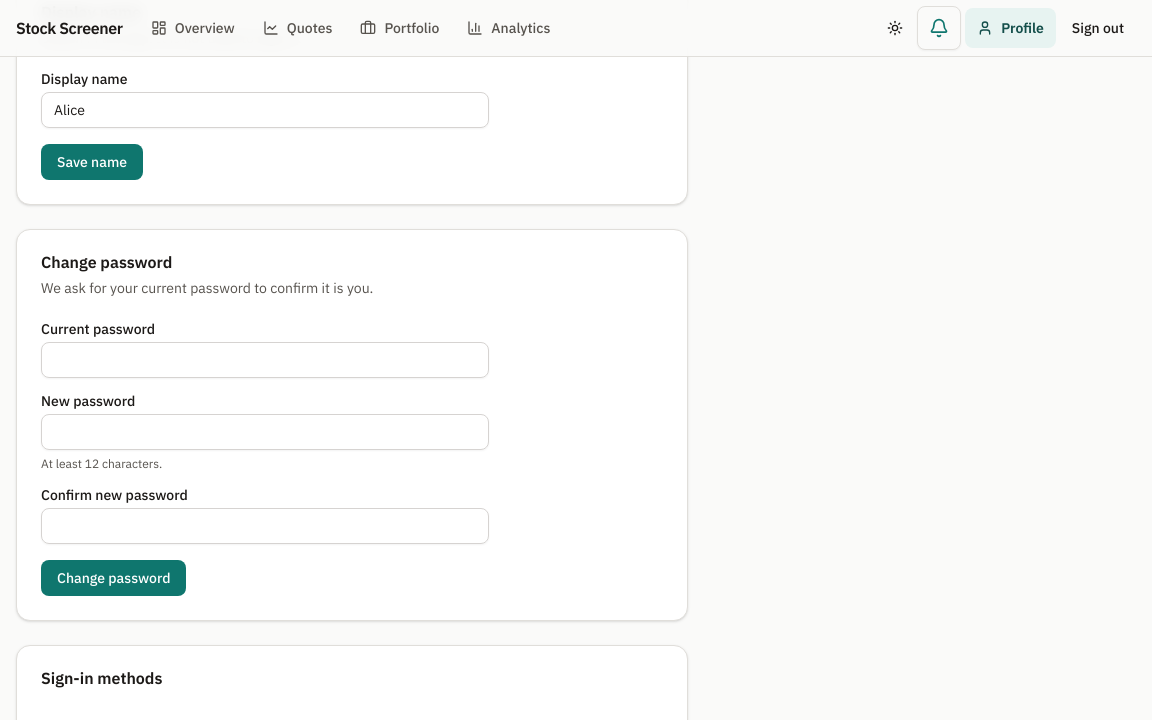
it: Security: password branch › applies the one 12 to 72 character rule, with the same texts as sign-in
The width and height of the screenshot is (1152, 720).
(page scrolled)
Expected: the password field labelled "New password" is shown, [41,414,489,450]
Type "Old-Passw0rd-1" into the password field labelled "Current password" at [265, 360], box [41,342,489,378]
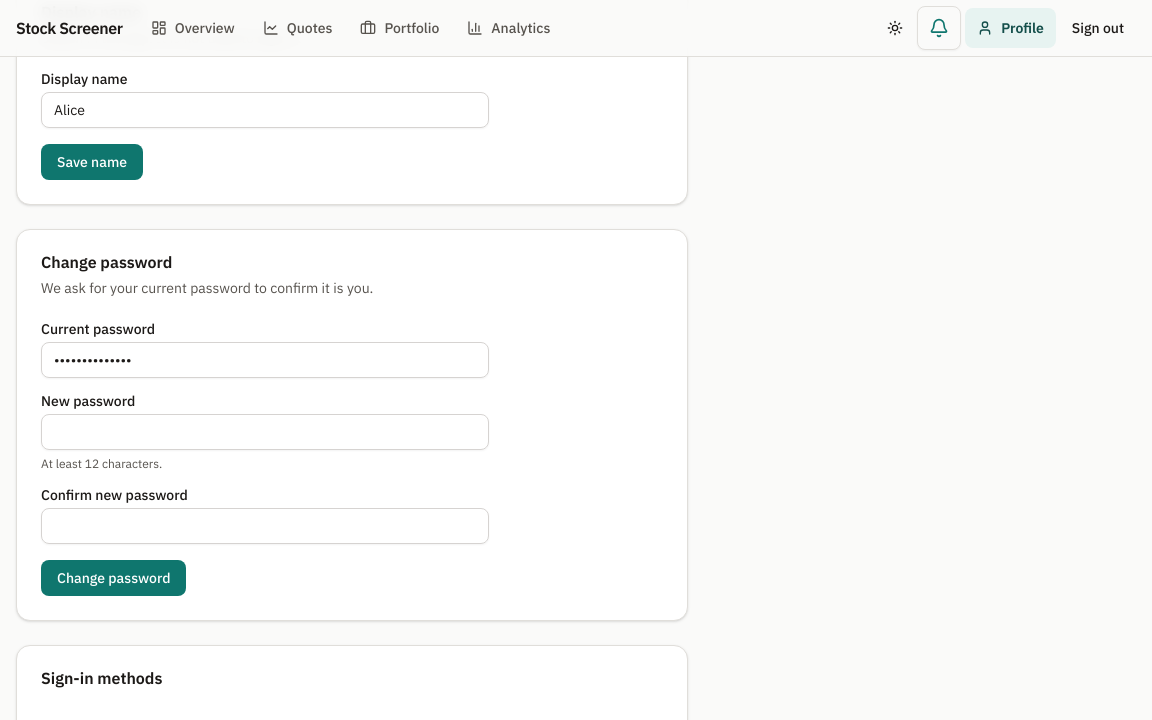
Type "short" into the password field labelled "New password" at [265, 432], box [41,414,489,450]
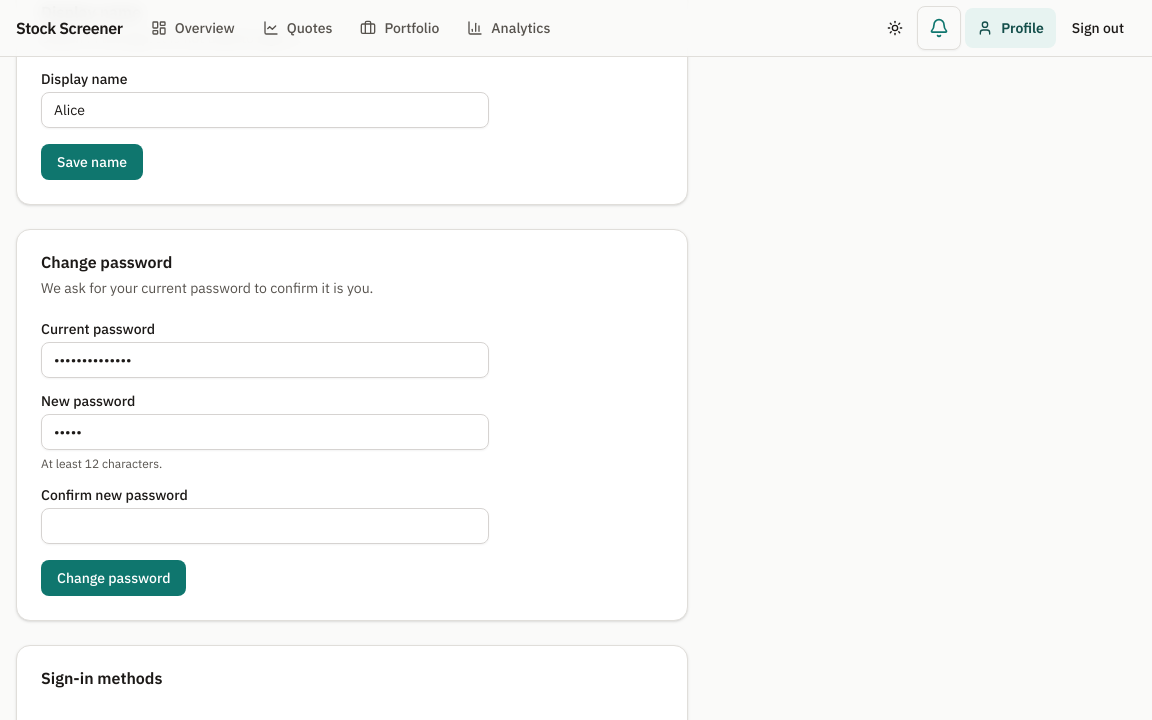
Type "short" into the password field labelled "Confirm new password" at [265, 526], box [41,508,489,544]
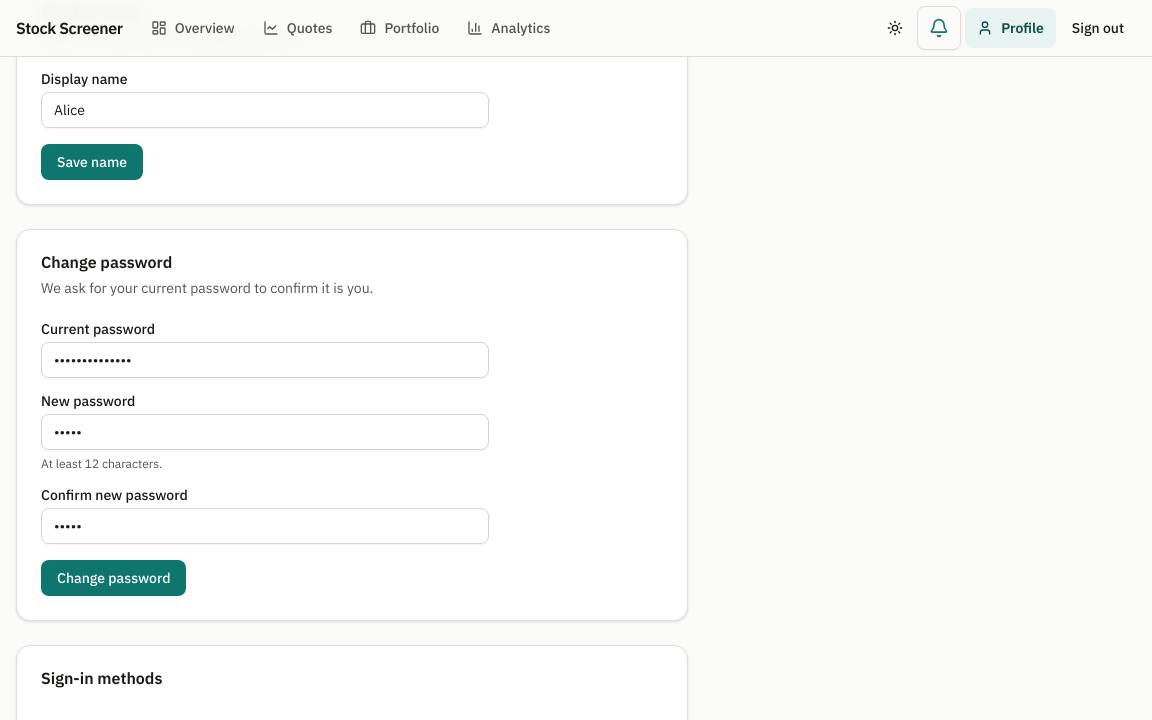
Submit the form named "Change password", box [41,322,489,596]
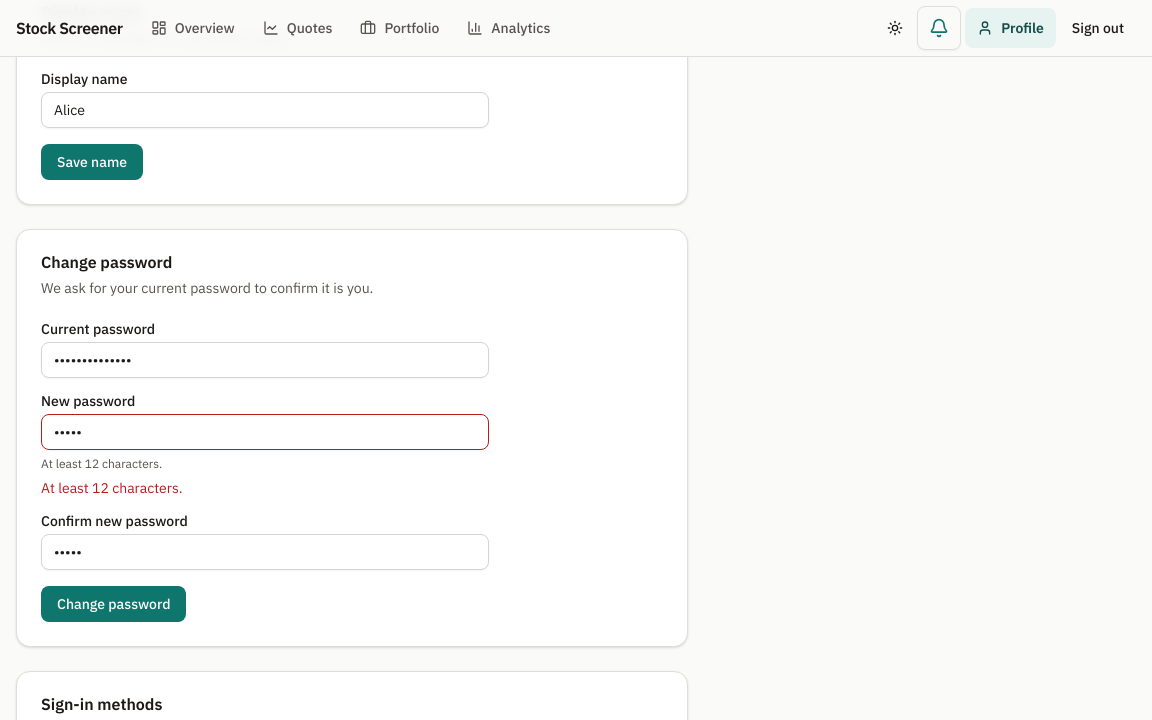
Expected: the message "At least 12 characters." is shown, [41,479,182,497]
